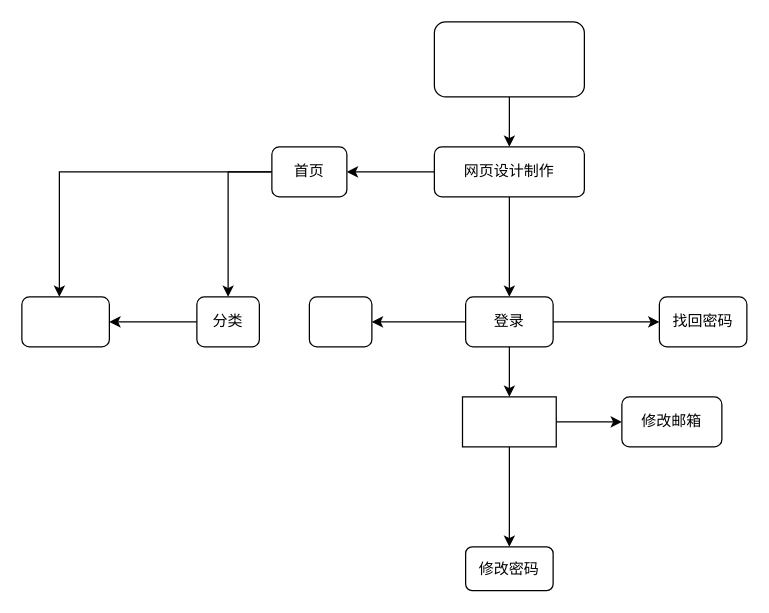
Some shapes in this 769 by 613 pixel diagram are drawn without their labels. The centre of each missing label's shape, as x and y in pixels:
个人中心: the point at 508,421
注册: the point at 340,321
游戏站前端部分: the point at 508,59
游戏页面: the point at 65,321
